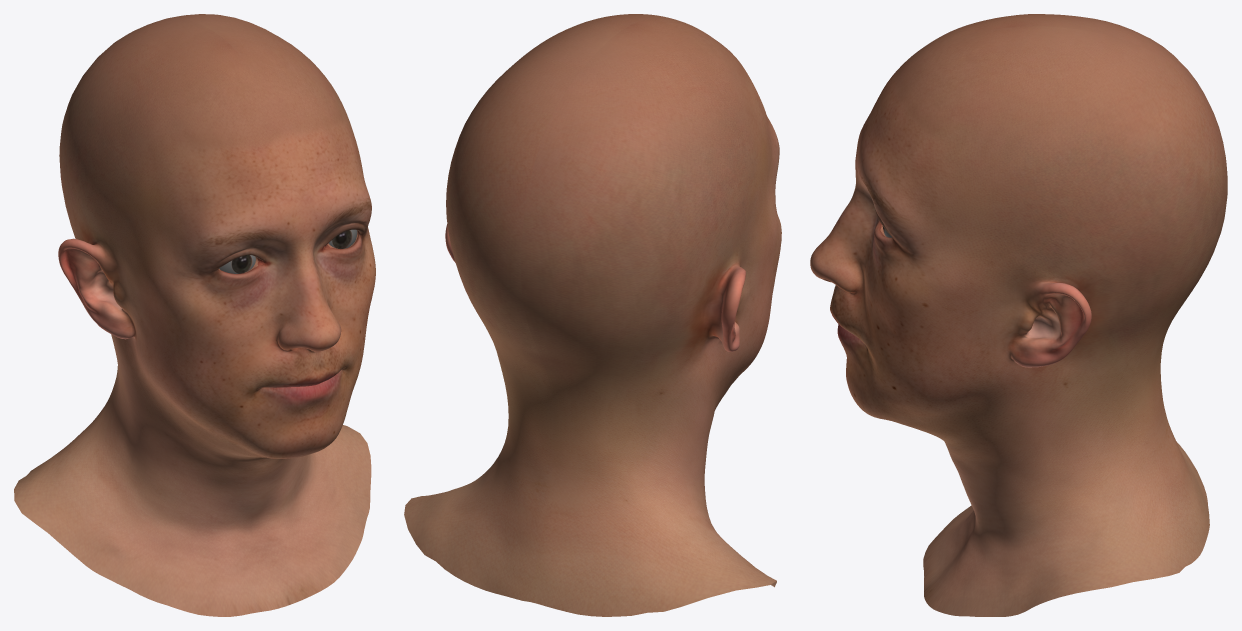
3 renders of one model, left to right at view 1: azimuth 30°, elevation 25°; view 2: azimuth 150°, elevation 25°; view 3: azimuth 270°, elevation 25°, orthographic. The views are drawn at different scales.
Parts seen in each view (by area): view 1: UnchangedNativeHead; view 2: UnchangedNativeHead; view 3: UnchangedNativeHead.
Boxes of the visible parts, bbox=[...] form: UnchangedNativeHead: bbox=[14, 14, 375, 616]; UnchangedNativeHead: bbox=[404, 14, 781, 616]; UnchangedNativeHead: bbox=[810, 14, 1227, 616].
Size of the model in its own units: 1.23 by 1.86 by 1.26.
3 materials, 3 textured.
